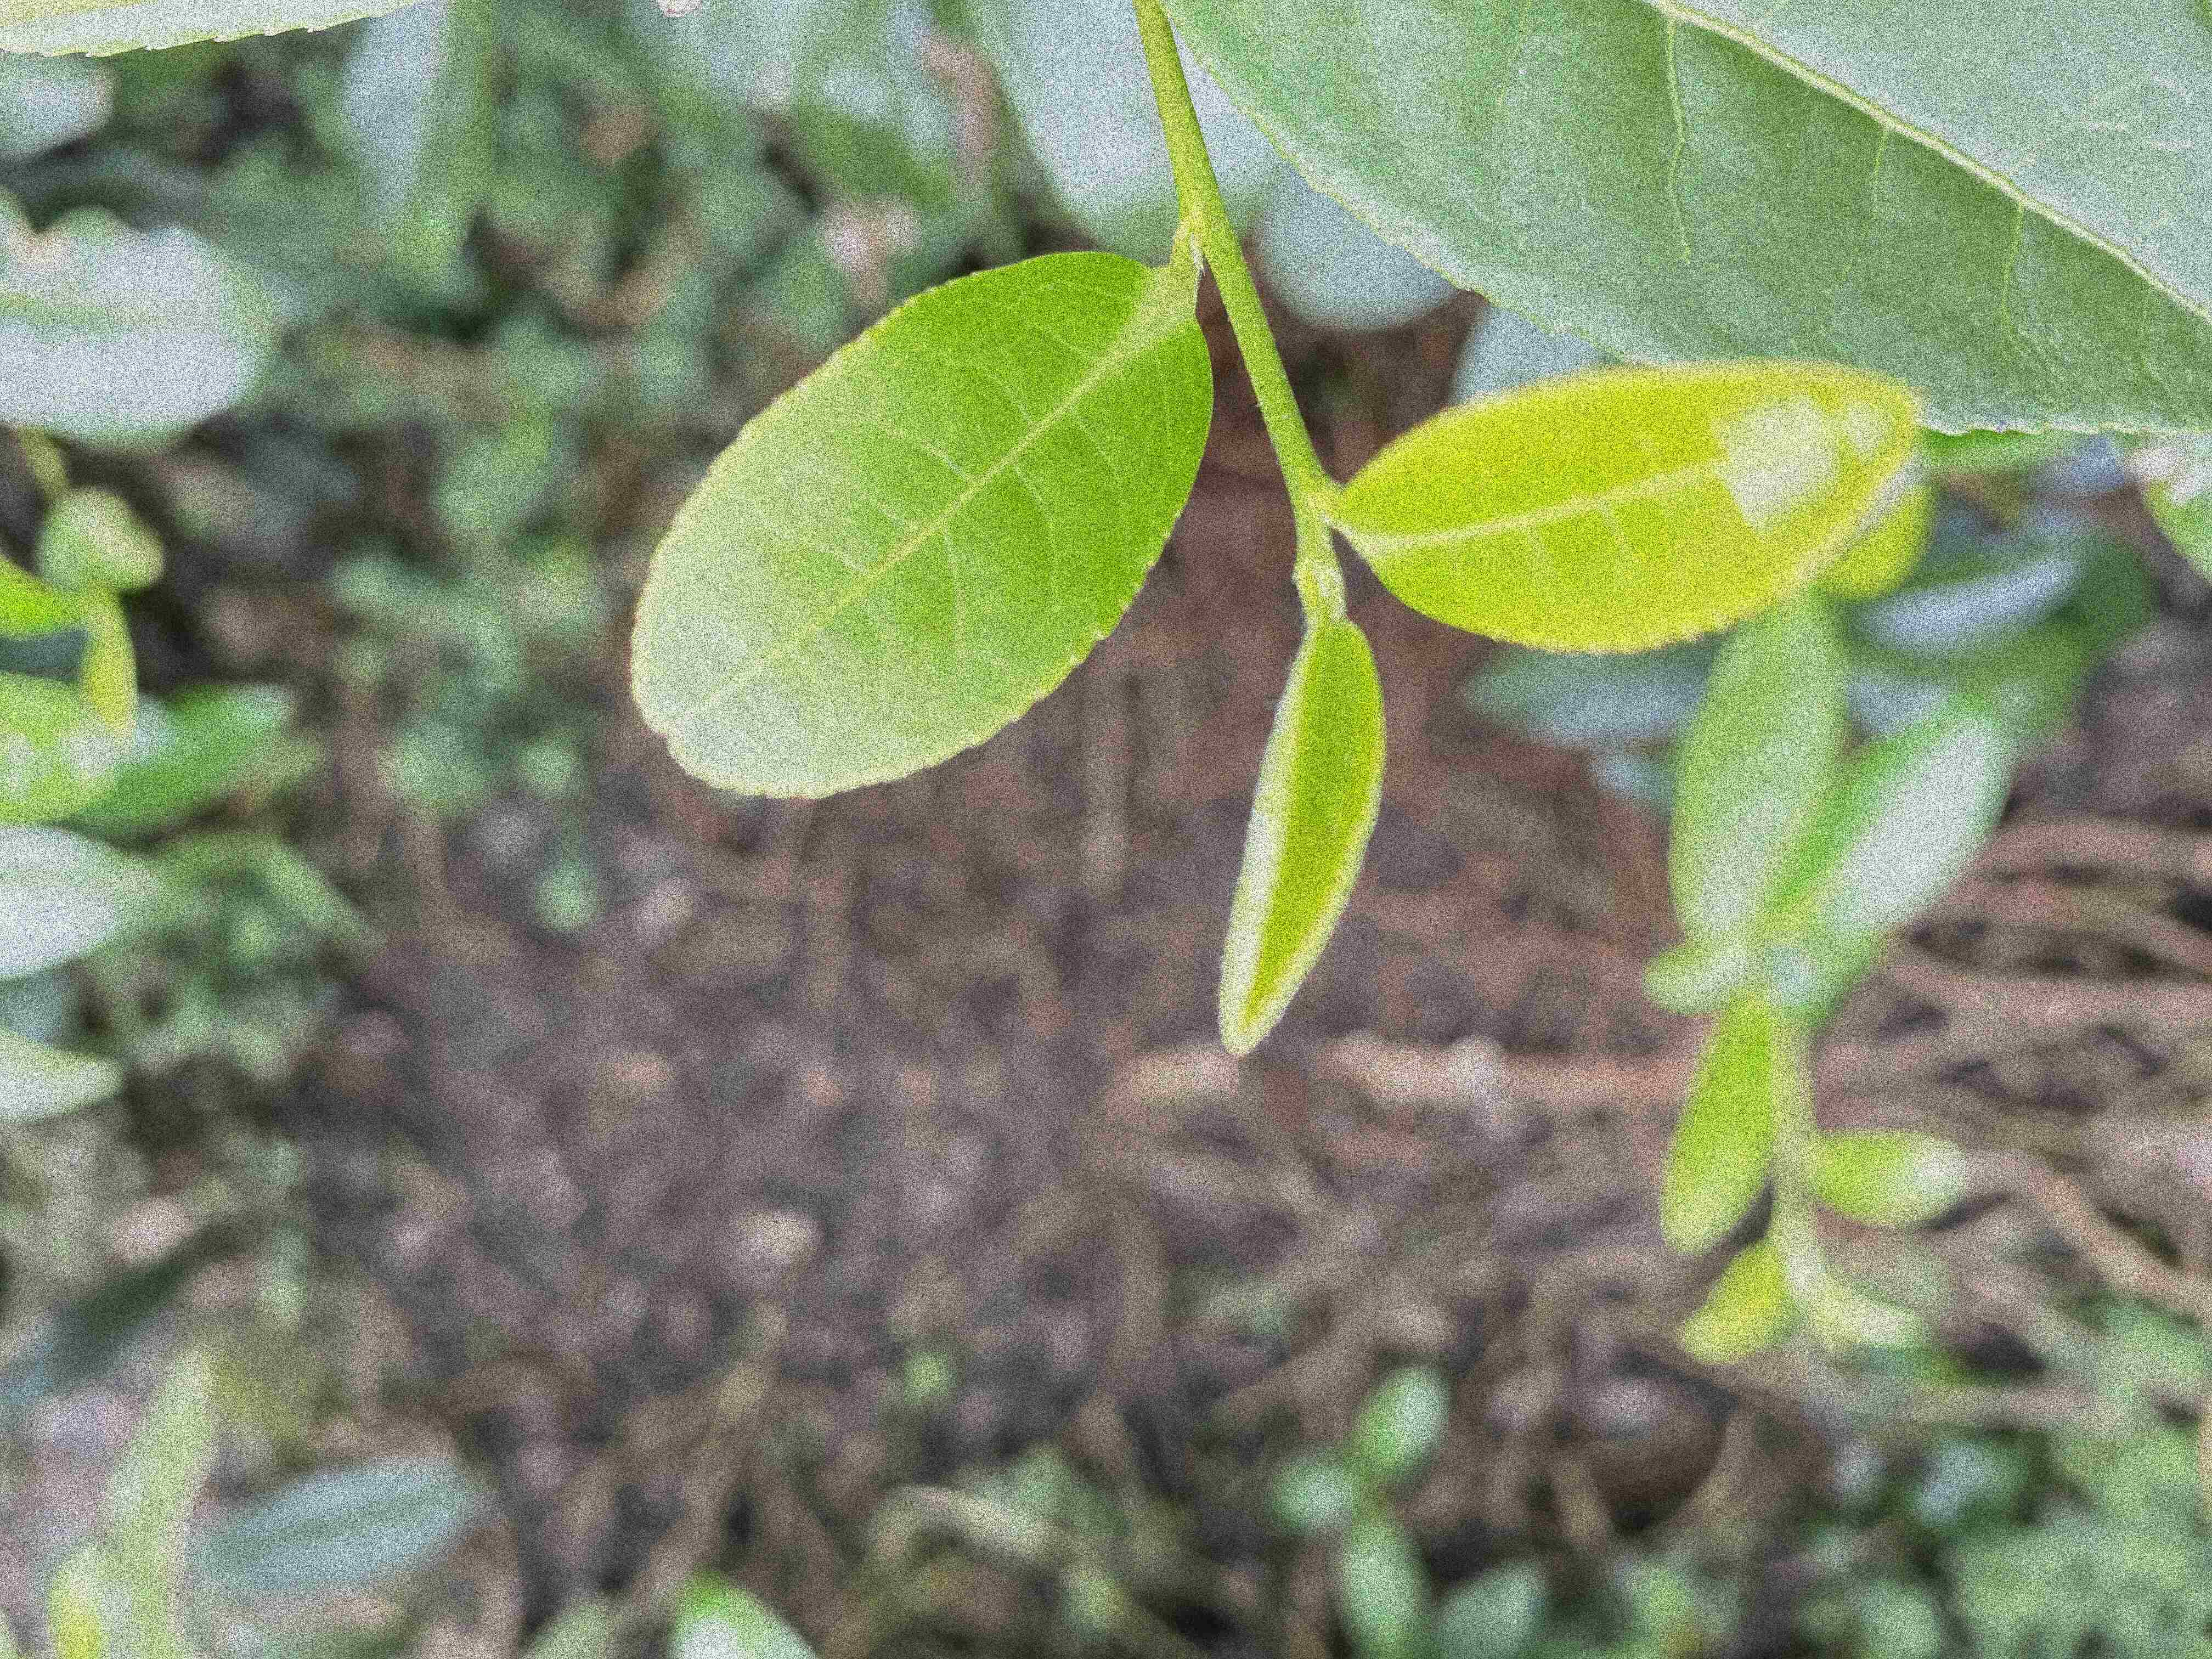healthy: (629, 253, 1216, 802), (1345, 361, 1925, 657), (1217, 626, 1383, 1056)
